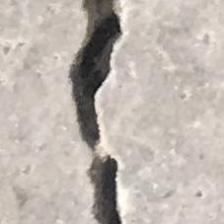Crack: (14, 0, 188, 224)
